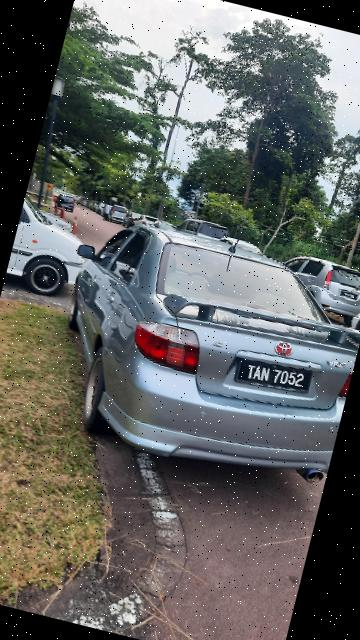License_Plate: (233, 344, 319, 400)
car: (28, 207, 360, 503)
